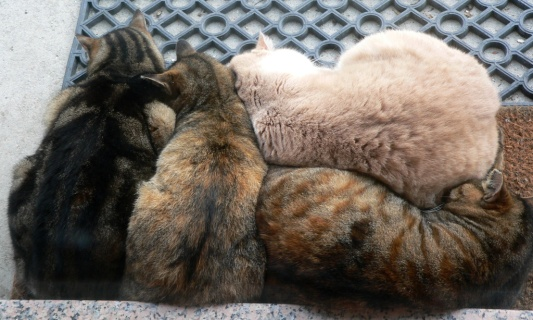Cat: (3, 7, 176, 299), (226, 30, 503, 210), (250, 167, 533, 310), (122, 37, 267, 301)
